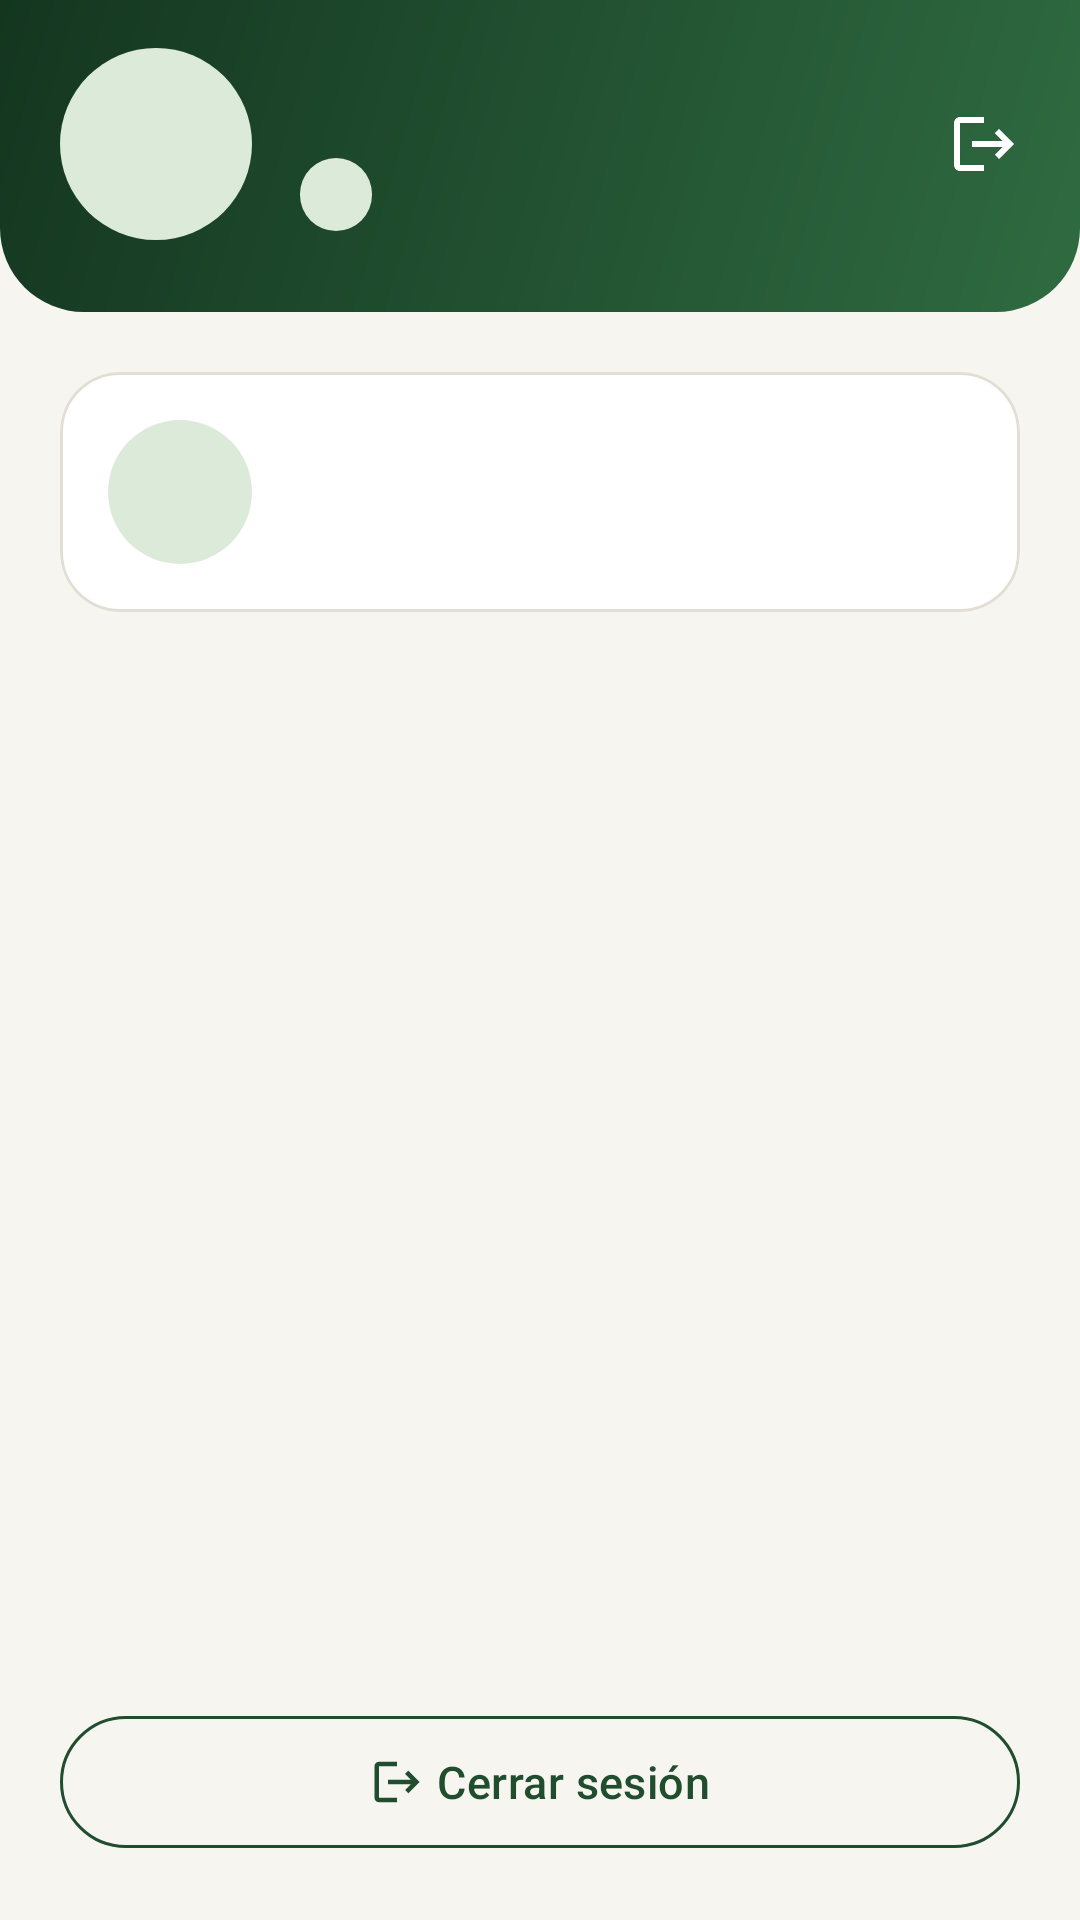

Where to tap for icons on this 1080 x 1920 app screen, as (x,y):
Cerrar sesión: (984,144)
